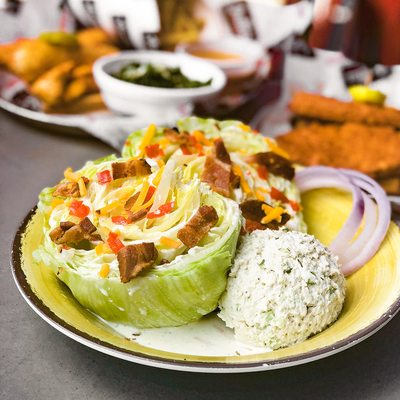pizza: (90, 0, 161, 50)
sushi: (91, 49, 227, 122)
